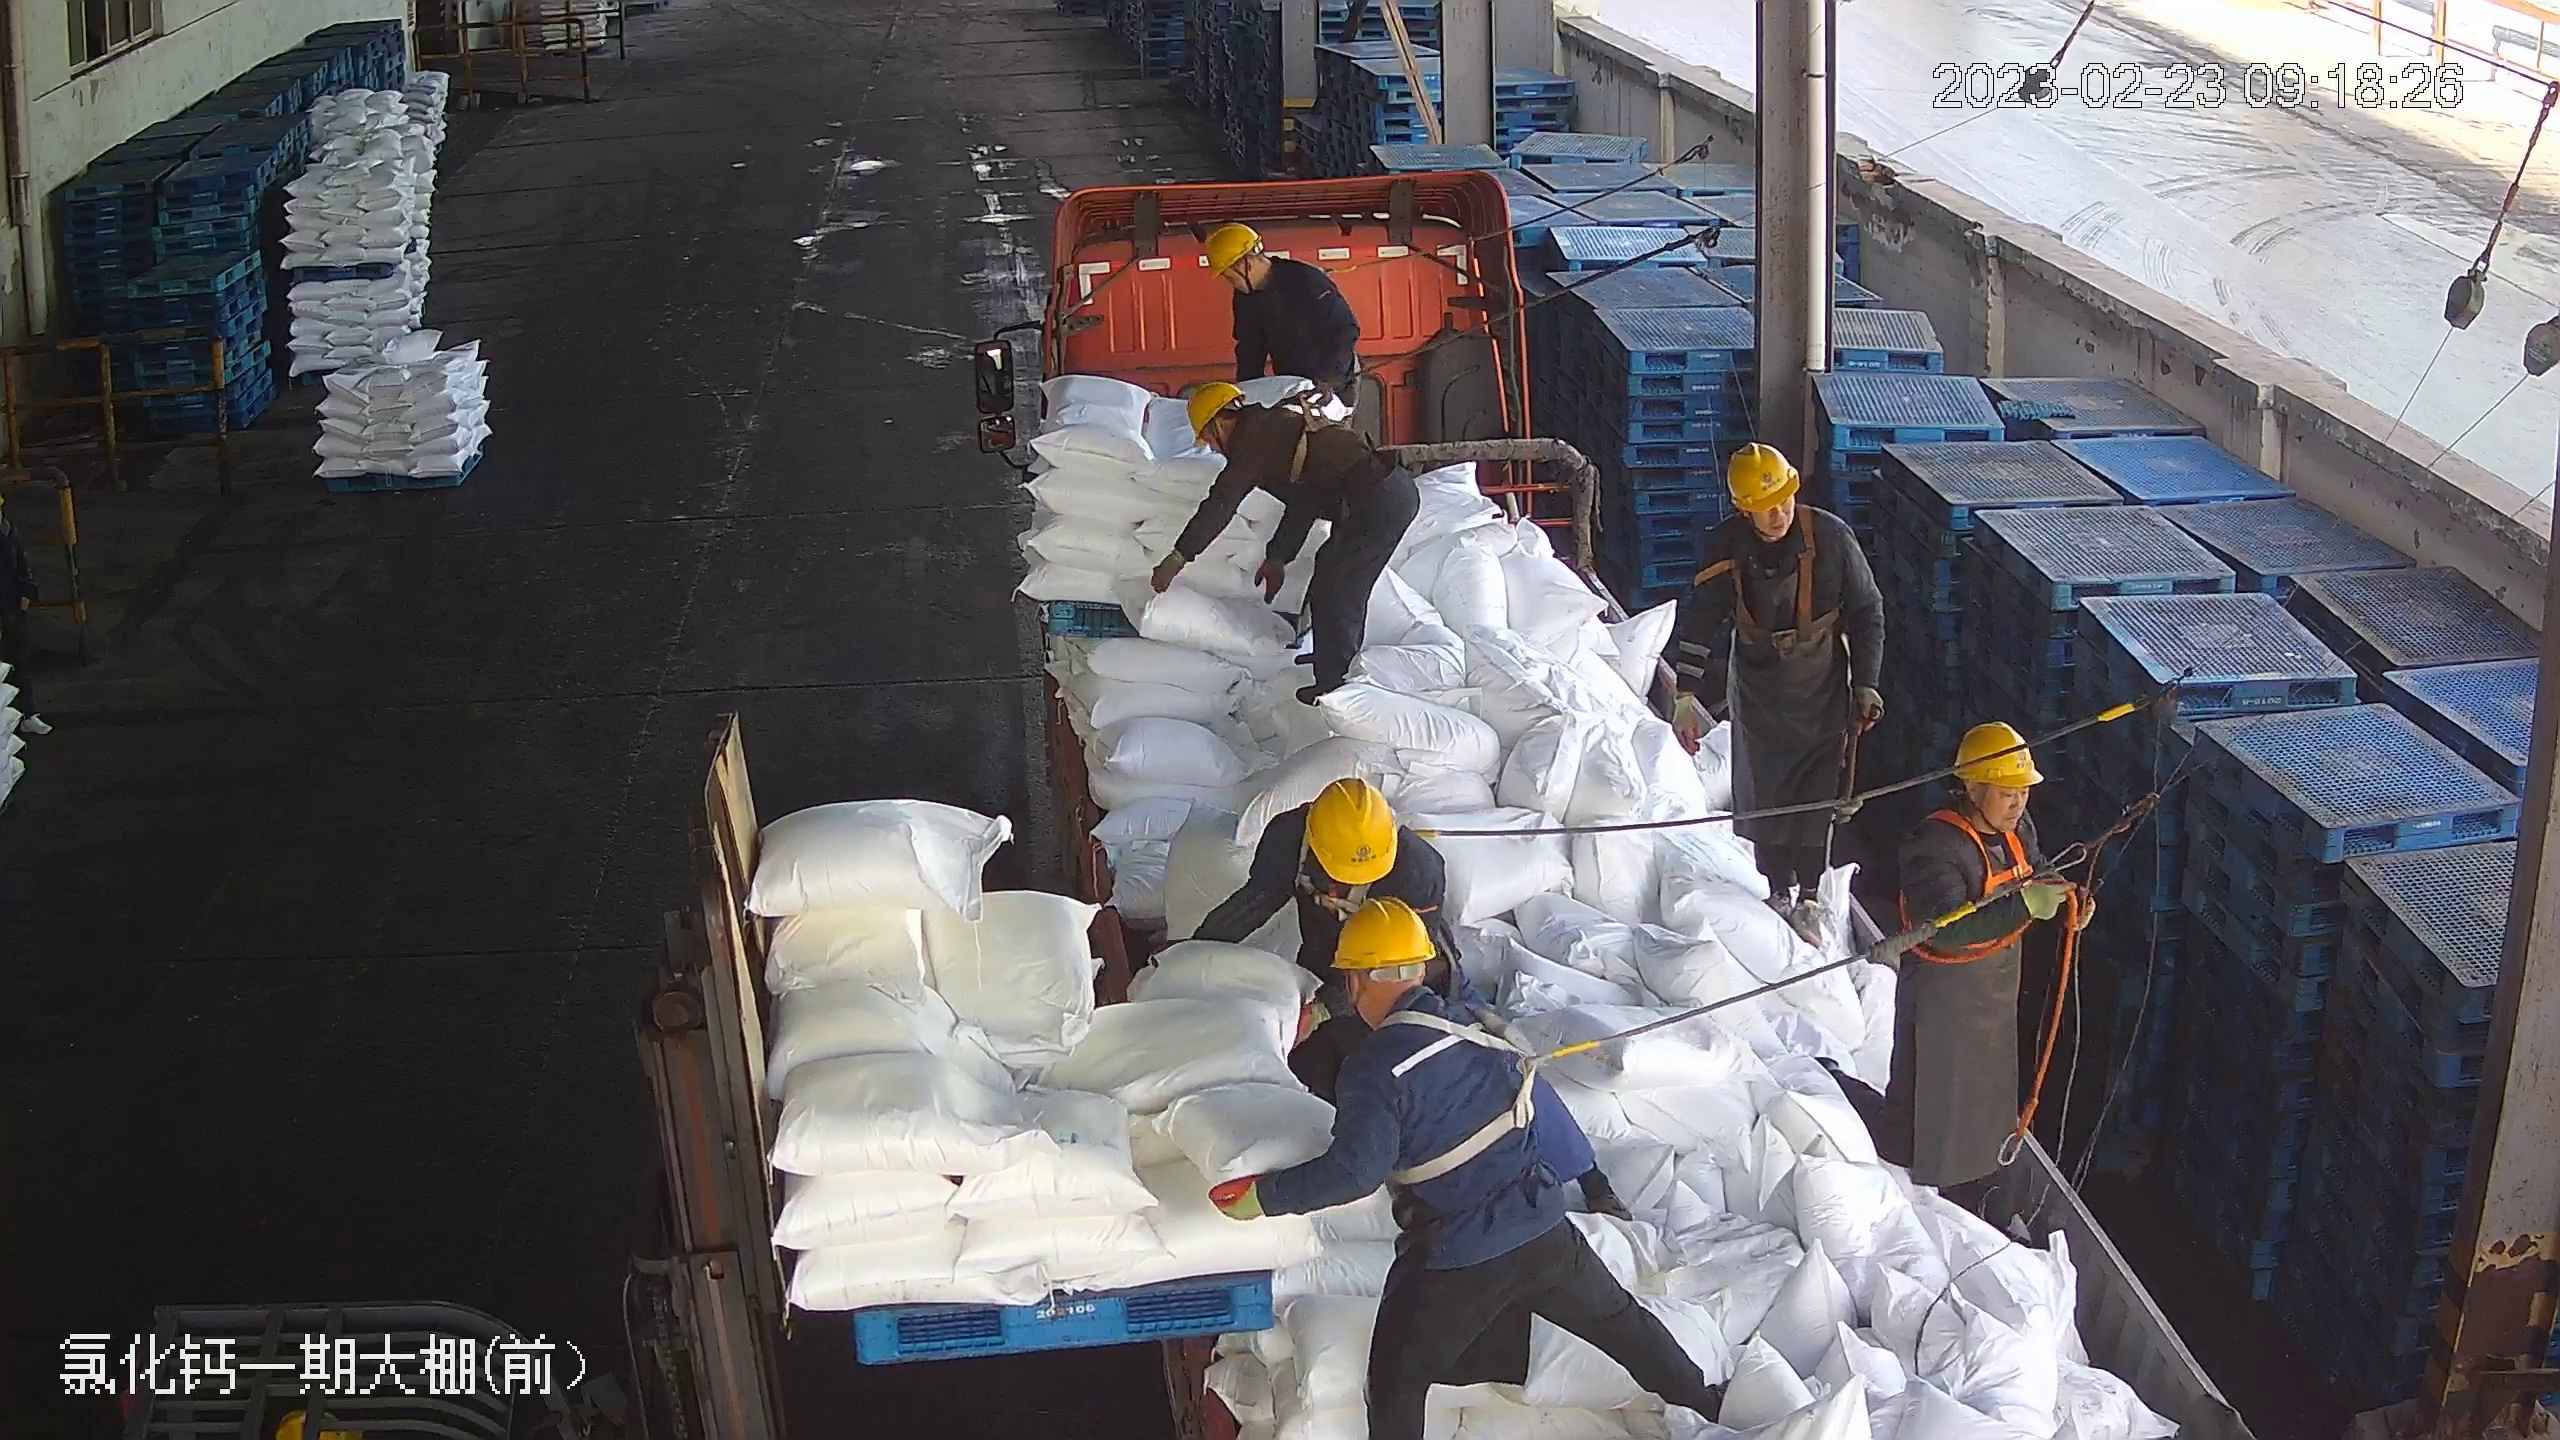belt: (1385, 1006, 1601, 1182), (1919, 816, 2040, 960), (1724, 537, 1846, 653), (1255, 390, 1363, 488), (1290, 833, 1376, 919), (1306, 257, 1363, 287)
head: (1319, 903, 1513, 1104), (1241, 773, 1439, 917), (1702, 437, 1857, 583), (1908, 722, 2044, 878), (1184, 378, 1306, 482), (1199, 223, 1318, 323)
helmet: (1303, 775, 1397, 882), (1329, 895, 1440, 974), (1950, 717, 2044, 787), (1722, 439, 1801, 510), (1184, 379, 1244, 444), (1198, 220, 1259, 276)
people: (1192, 901, 1721, 1440), (1655, 441, 1890, 946), (1884, 716, 2090, 1234), (1151, 382, 1424, 703), (1286, 856, 1530, 1111), (1199, 212, 1374, 433)
truck: (989, 167, 2261, 1428), (1651, 440, 1892, 944)
